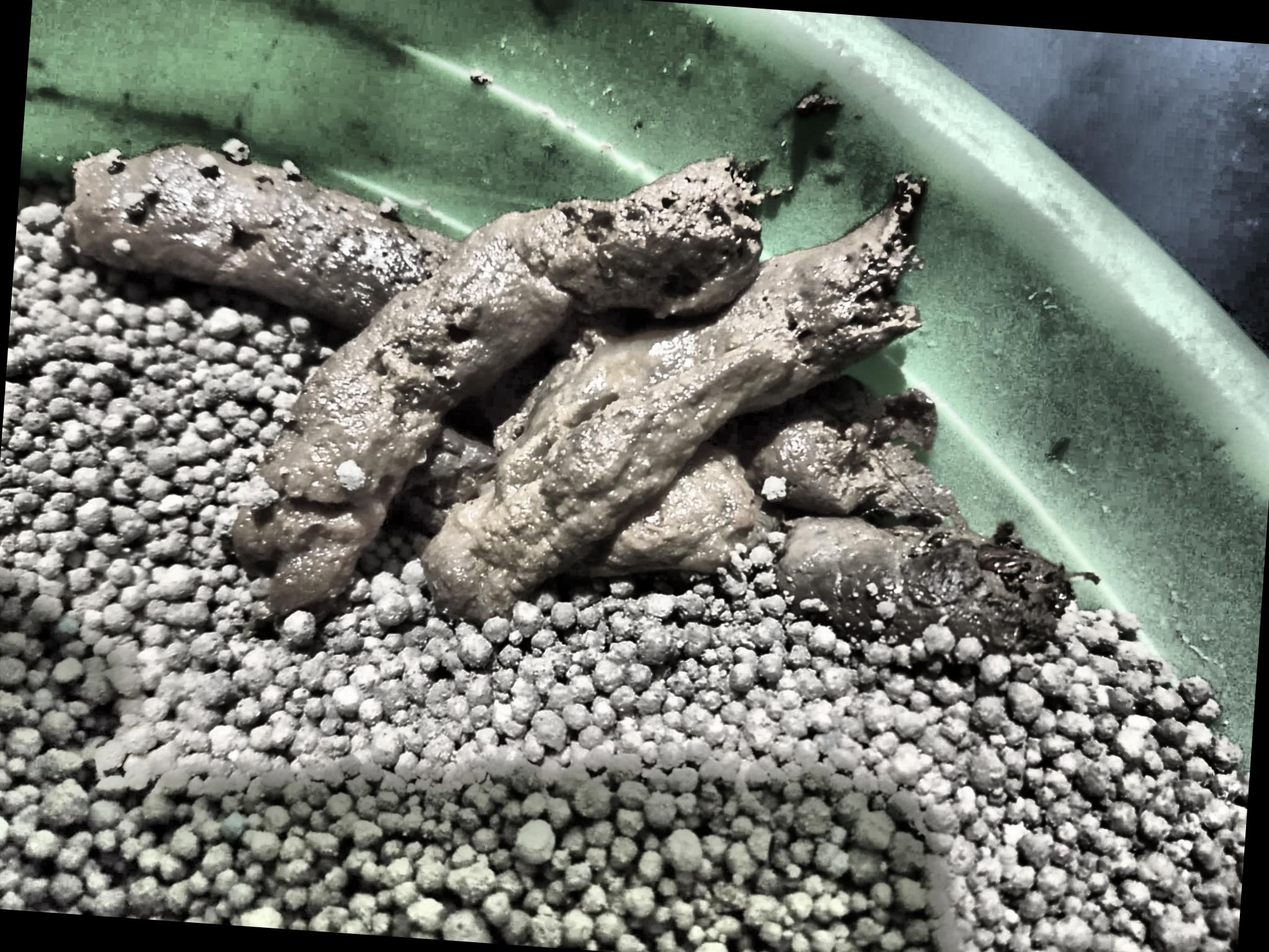poop: (53, 139, 1076, 684), (794, 93, 844, 116), (1070, 571, 1101, 584)
